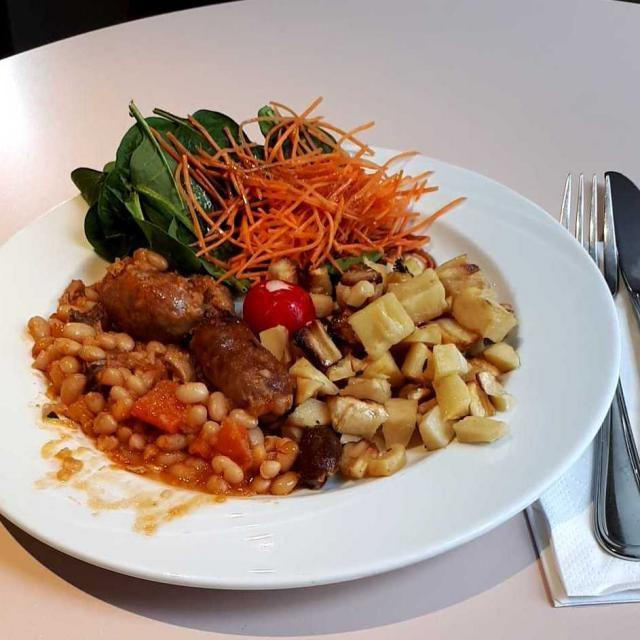beans: (33, 283, 302, 498)
carrot: (170, 86, 454, 274)
sauce: (47, 307, 255, 493)
sausage: (97, 253, 295, 440)
spinach: (84, 112, 340, 290)
